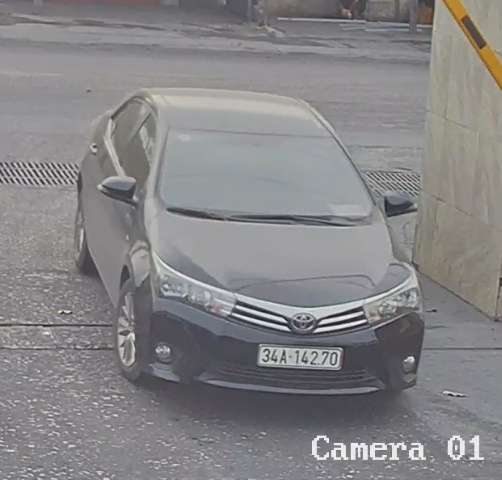vehicle plate: (254, 340, 347, 372)
